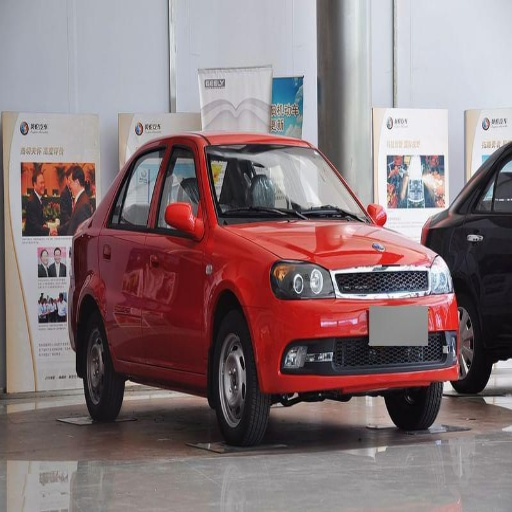back_right_door: (100, 143, 162, 361)
front_bumper: (252, 269, 454, 391)
front_right_door: (143, 140, 205, 371)
front_right_light: (270, 260, 332, 298)
hood: (230, 218, 433, 269)
